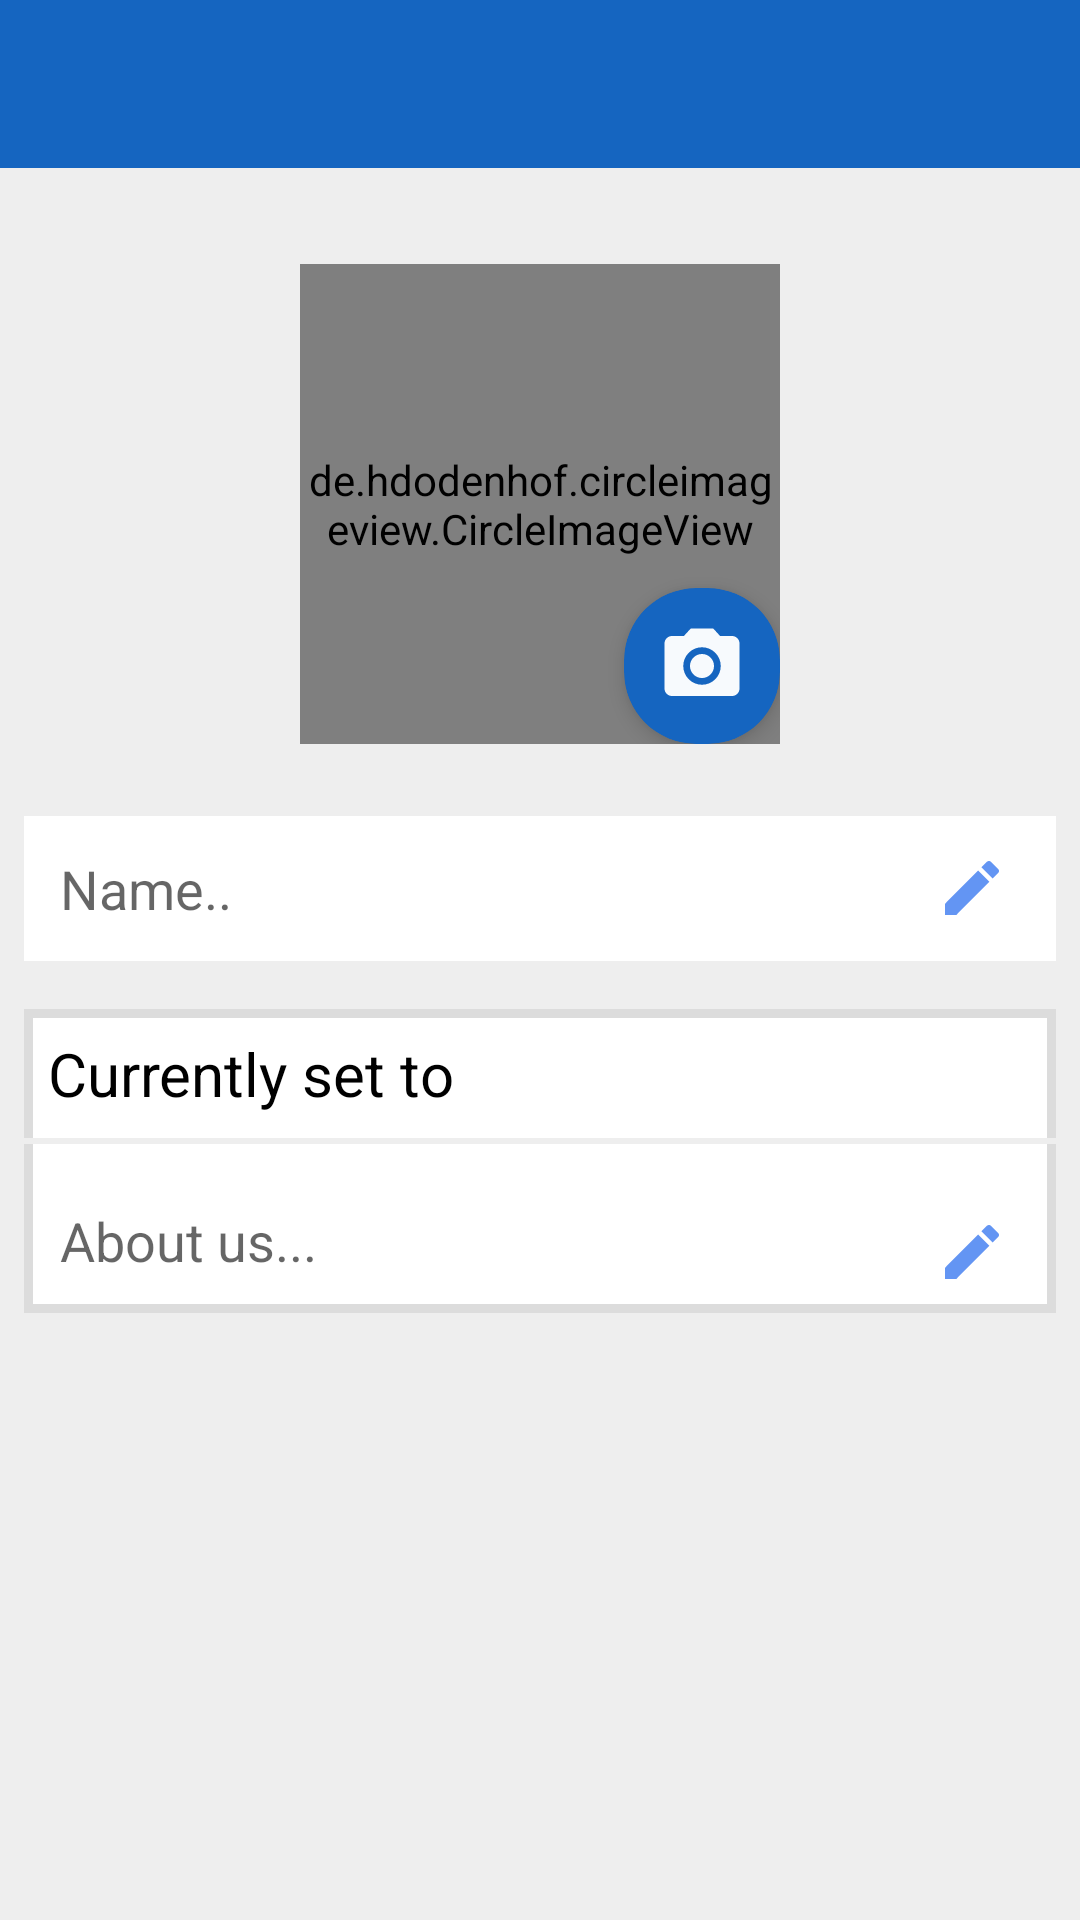

Icons on this 1080px×1920px Android screen, each with the point to tap as (x=x, y=y):
camera: (x=702, y=662)
edit: (x=972, y=888), (x=972, y=1252)
